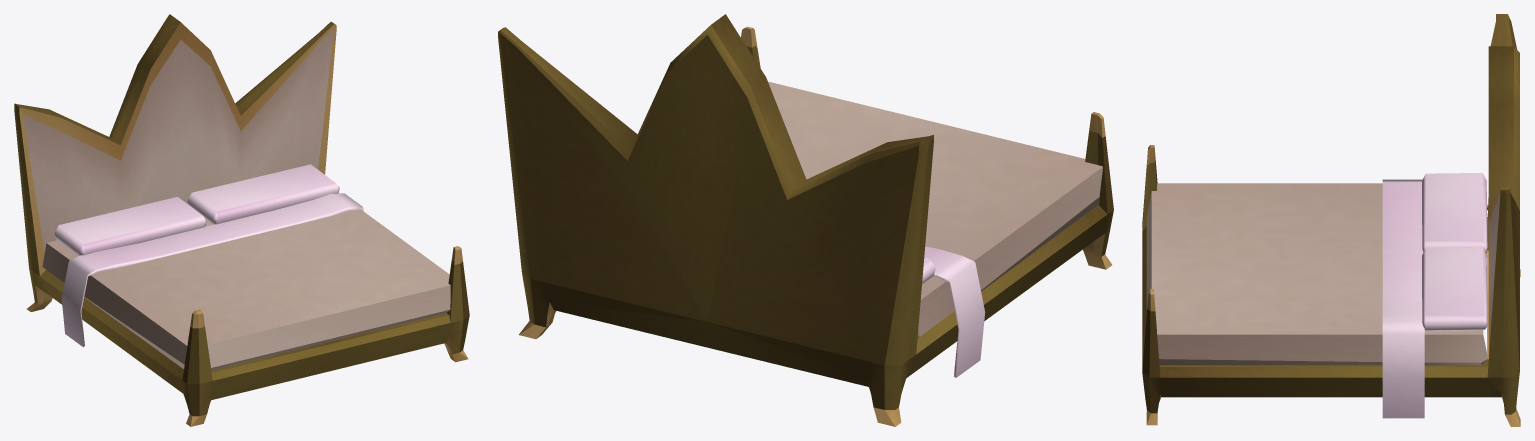
File: SM_king_bed_01.fbx
3 renders of one model, left to right at view 1: azimuth 30°, elevation 25°; view 2: azimuth 150°, elevation 25°; view 3: azimuth 270°, elevation 25°, orthographic. The views are drawn at different scales.
Parts seen in each view (by area): view 1: SM_king_bed_01; view 2: SM_king_bed_01; view 3: SM_king_bed_01.
Part boxes in pixels (left/top/right/bottom): SM_king_bed_01: left=14, top=14, right=469, bottom=426; SM_king_bed_01: left=498, top=14, right=1113, bottom=426; SM_king_bed_01: left=1142, top=14, right=1520, bottom=426.
Size of the model in its own units: 3.87 by 3.05 by 3.46.
